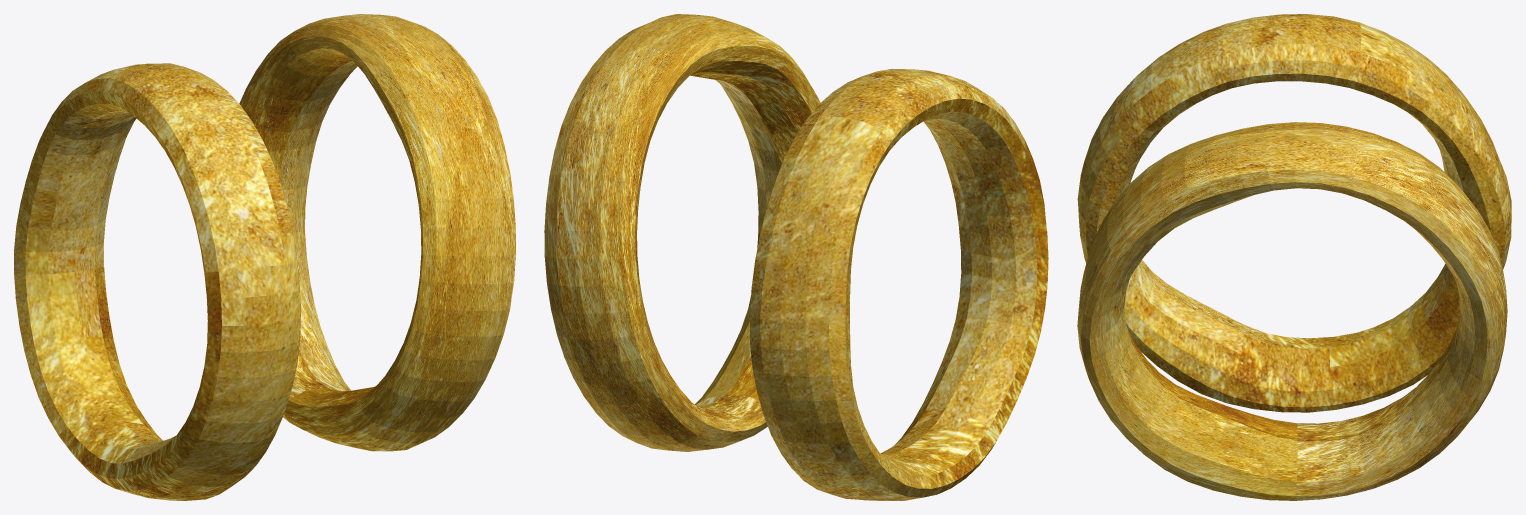
File: wrists.obj
3 renders of one model, left to right at view 1: azimuth 30°, elevation 25°; view 2: azimuth 150°, elevation 25°; view 3: azimuth 270°, elevation 25°, orthographic.
Visible parts, largest first — view 1: Torus.004, Torus.005; view 2: Torus.004, Torus.005; view 3: Torus.005, Torus.004.
Part boxes in pixels (left/top/right/bottom): Torus.004: left=14, top=63, right=300, bottom=500; Torus.005: left=239, top=14, right=515, bottom=451; Torus.004: left=750, top=68, right=1048, bottom=500; Torus.005: left=544, top=14, right=820, bottom=451; Torus.005: left=1077, top=122, right=1507, bottom=500; Torus.004: left=1077, top=14, right=1511, bottom=412.
Bounding box in the file's own units: 0.1905 × 0.204 × 0.2053.
2 materials, 2 textured.
